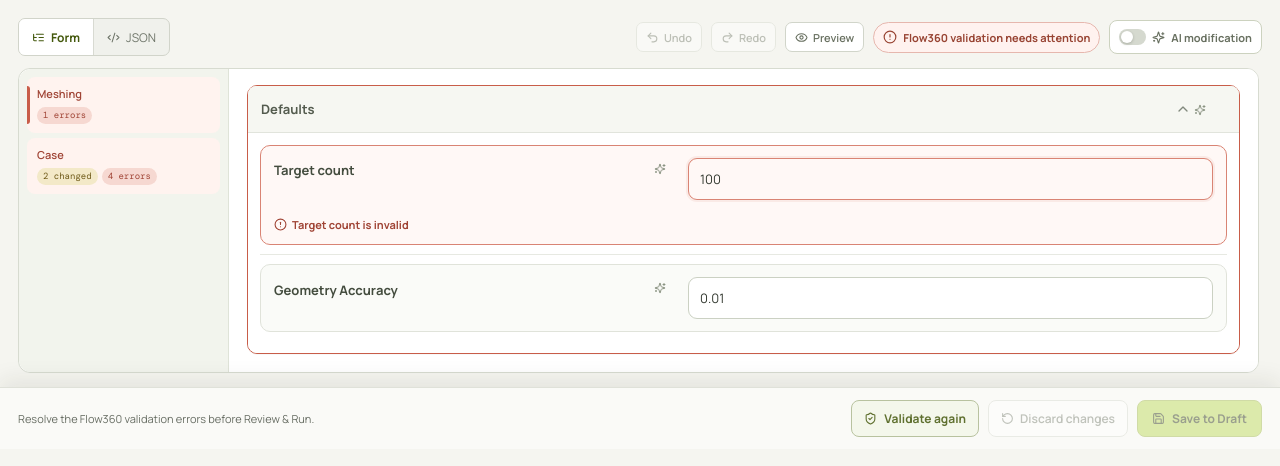
Test: Draft parameter validation navigation › opens the AI Draft session with a field-specific explanation prompt
Click the button named "Explain Defaults with AI" at [1200, 110], box x1=1190 y1=100 x2=1210 y2=120
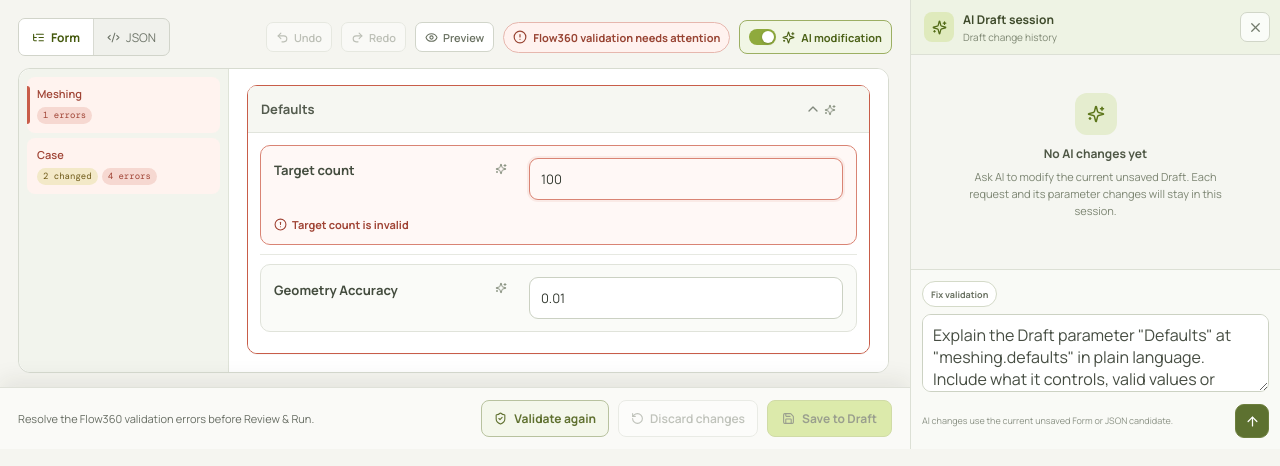
Check: the element with class "draft-ai-session" is shown, box x1=910 y1=0 x2=1279 y2=449
